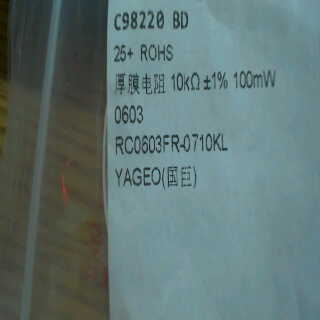10kR: (168, 68, 201, 98)
